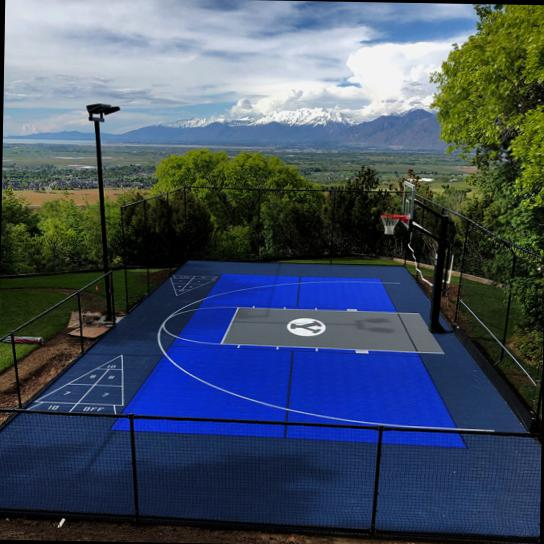basketball-hoop: (378, 211, 401, 235)
